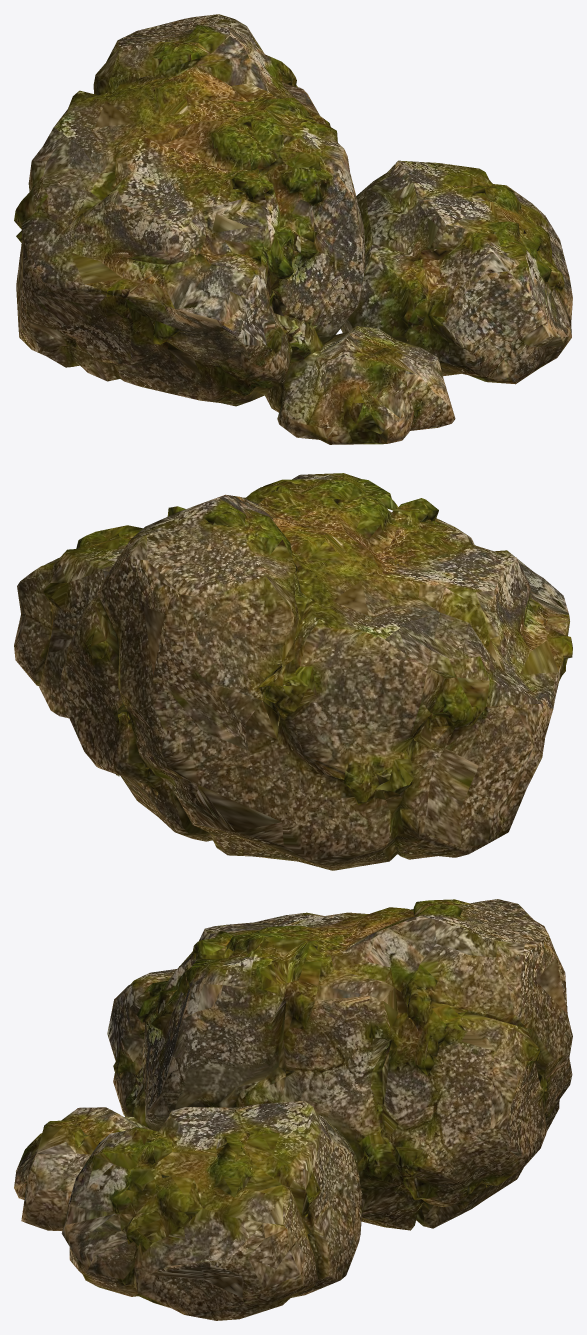
File: pedras.glb
3 renders of one model, top to bottom at view 1: azimuth 30°, elevation 25°; view 2: azimuth 150°, elevation 25°; view 3: azimuth 270°, elevation 25°, orthographic. The views are drawn at different scales.
Parts seen in each view (by area): view 1: pedras; view 2: pedras; view 3: pedras.
Boxes of the visible parts, <box> form: pedras: <box>14,14,572,444</box>; pedras: <box>14,473,572,870</box>; pedras: <box>14,899,572,1320</box>.
Size of the model in its own units: 1.49 by 0.8 by 1.39.
1 material, 1 textured.
